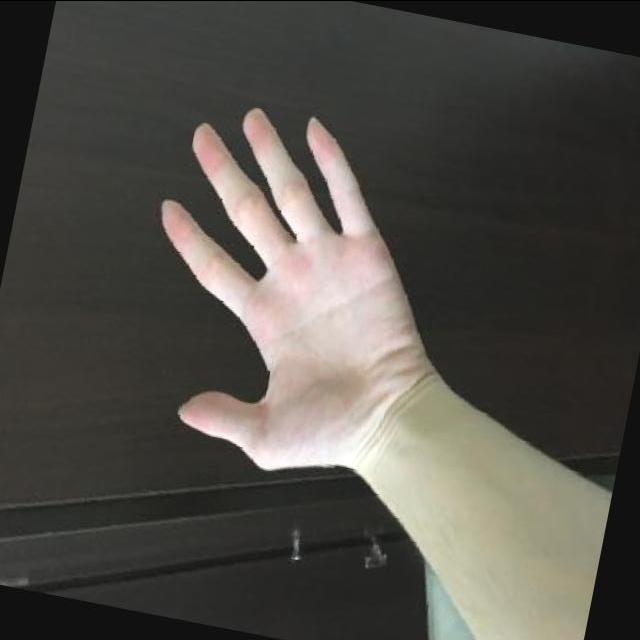hand: (107, 77, 489, 502)
